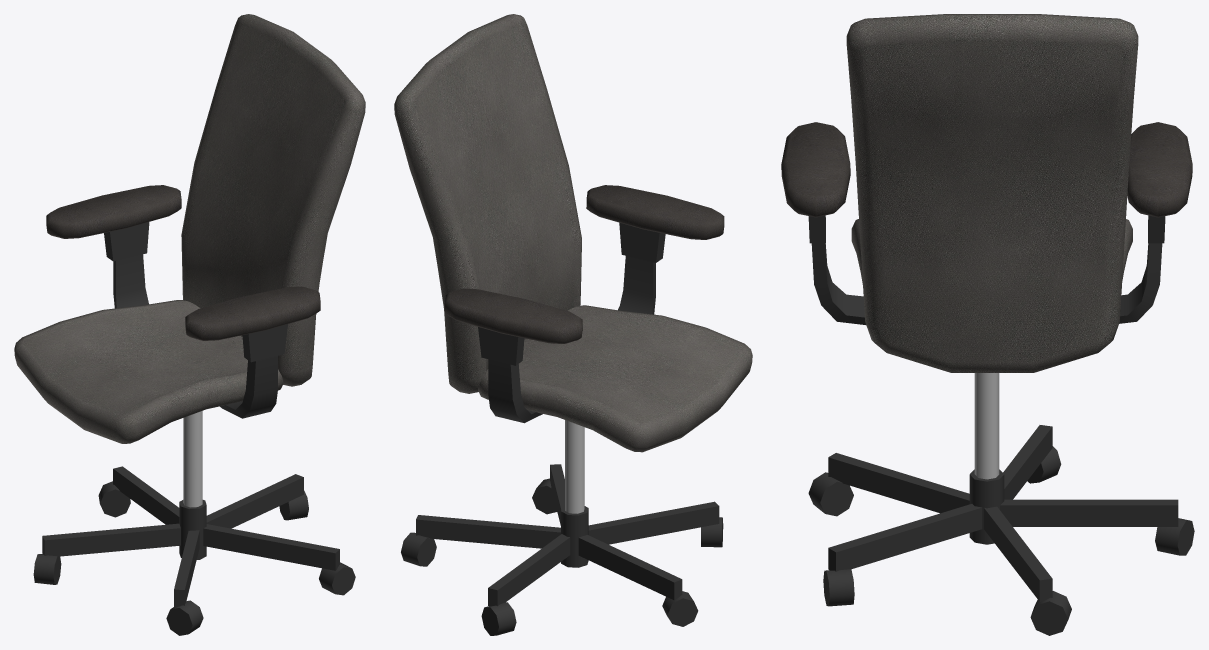
Rendered from WheelChair.glb.
3 renders of one model, left to right at view 1: azimuth 30°, elevation 25°; view 2: azimuth 150°, elevation 25°; view 3: azimuth 270°, elevation 25°, orthographic. The views are drawn at different scales.
Parts seen in each view (by area): view 1: WheelChair; view 2: WheelChair; view 3: WheelChair.
Boxes of the visible parts, <box> form: WheelChair: <box>14,14,365,635</box>; WheelChair: <box>394,14,752,635</box>; WheelChair: <box>781,14,1194,635</box>.
Size of what is drawn, in the model's own units: 0.5142 by 0.8738 by 0.5382.
Materials: 4 (2 with a texture image).
